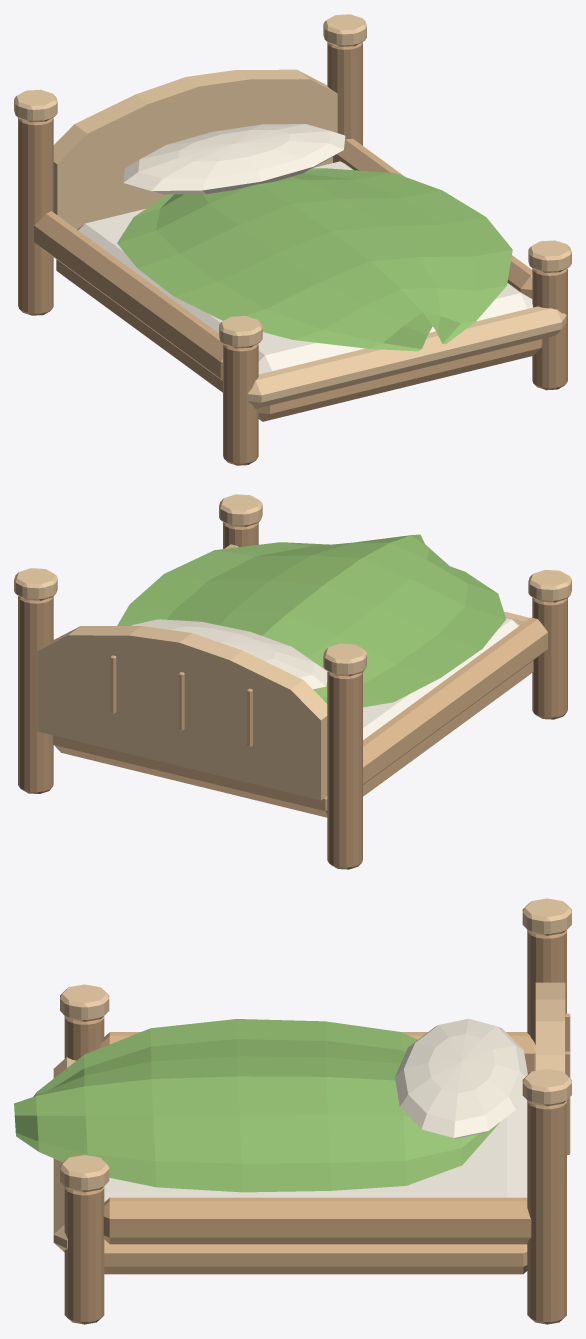
3 renders of one model, top to bottom at view 1: azimuth 30°, elevation 25°; view 2: azimuth 150°, elevation 25°; view 3: azimuth 270°, elevation 25°, orthographic. The views are drawn at different scales.
Visible parts, largest first — view 1: single_soft_puffy_leaf_blanket, lower_rounded_honey_headboard, simple_rounded_cream_pillow, soft_front_rail, left_rounded_rail, compact_rounded_wood_base, back_left_short_post, clean_warm_cream_mattress, front_left_short_post, front_right_short_post, back_right_short_post, right_rounded_rail (+4 smaller); view 2: single_soft_puffy_leaf_blanket, lower_rounded_honey_headboard, left_rounded_rail, back_left_short_post, compact_rounded_wood_base, back_right_short_post, front_left_short_post, simple_rounded_cream_pillow, clean_warm_cream_mattress, front_right_short_post_soft_honey_cap, back_right_short_post_soft_honey_cap, back_left_short_post_soft_honey_cap (+2 smaller); view 3: single_soft_puffy_leaf_blanket, right_rounded_rail, compact_rounded_wood_base, simple_rounded_cream_pillow, clean_warm_cream_mattress, back_right_short_post, front_right_short_post, lower_rounded_honey_headboard, back_left_short_post, back_left_short_post_soft_honey_cap, front_left_short_post_soft_honey_cap, back_right_short_post_soft_honey_cap (+4 smaller).
Boxes of the visible parts, box(x1,y1,x2,y2) form: single_soft_puffy_leaf_blanket: box(117, 168, 512, 351); lower_rounded_honey_headboard: box(53, 69, 337, 229); simple_rounded_cream_pillow: box(123, 124, 345, 194); soft_front_rail: box(247, 306, 566, 408); left_rounded_rail: box(34, 211, 222, 380); compact_rounded_wood_base: box(56, 259, 542, 421); back_left_short_post: box(18, 117, 53, 315); clean_warm_cream_mattress: box(77, 161, 532, 374); front_left_short_post: box(223, 344, 258, 465); front_right_short_post: box(532, 268, 567, 390); back_right_short_post: box(327, 42, 362, 145); right_rounded_rail: box(333, 138, 532, 298); single_soft_puffy_leaf_blanket: box(117, 534, 505, 707); lower_rounded_honey_headboard: box(37, 626, 327, 800); left_rounded_rail: box(363, 617, 547, 784); back_left_short_post: box(327, 671, 362, 869); compact_rounded_wood_base: box(53, 661, 533, 817); back_right_short_post: box(18, 596, 53, 793); front_left_short_post: box(532, 597, 567, 719); simple_rounded_cream_pillow: box(130, 619, 327, 689); clean_warm_cream_mattress: box(363, 618, 519, 739); front_right_short_post_soft_honey_cap: box(219, 494, 262, 526); back_right_short_post_soft_honey_cap: box(14, 568, 57, 600); back_left_short_post_soft_honey_cap: box(323, 643, 366, 676); single_soft_puffy_leaf_blanket: box(14, 1019, 499, 1192); right_rounded_rail: box(103, 1197, 531, 1244); compact_rounded_wood_base: box(104, 1239, 527, 1274); simple_rounded_cream_pillow: box(395, 1018, 527, 1138); clean_warm_cream_mattress: box(104, 1095, 527, 1201); back_right_short_post: box(527, 1100, 566, 1324); front_right_short_post: box(64, 1186, 104, 1324); lower_rounded_honey_headboard: box(535, 982, 565, 1072); back_left_short_post: box(527, 930, 566, 1044); back_left_short_post_soft_honey_cap: box(522, 898, 571, 935); front_left_short_post_soft_honey_cap: box(60, 984, 109, 1021); back_right_short_post_soft_honey_cap: box(522, 1069, 571, 1106).
Size of the model in its own units: 1.53 by 0.89 by 1.88.
